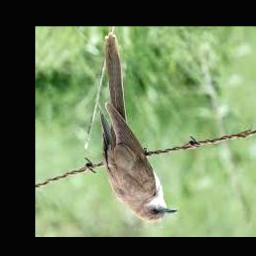Cuckoo: (100, 31, 178, 222)
